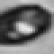correct: (1, 0, 54, 49)
